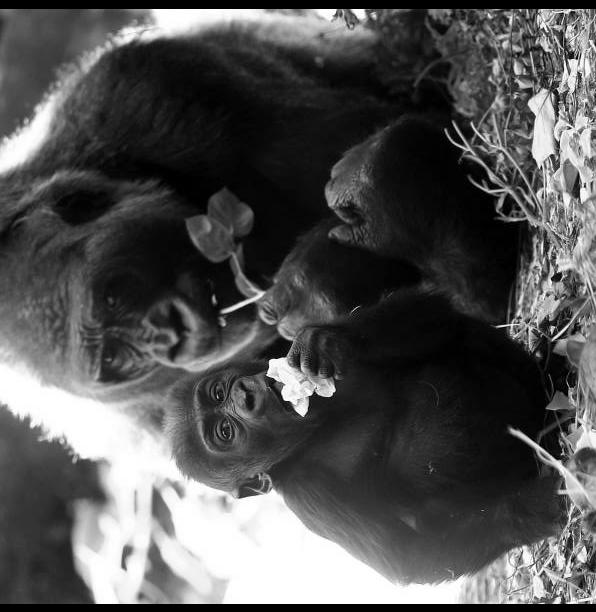gorille_Autres: (0, 8, 596, 557)
